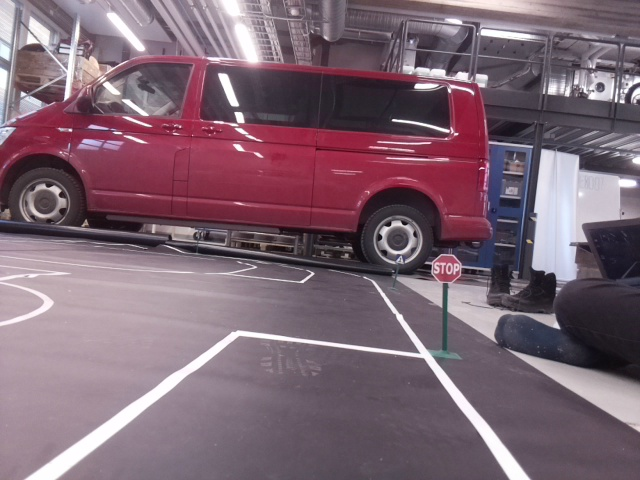Stop: (431, 251, 460, 283)
